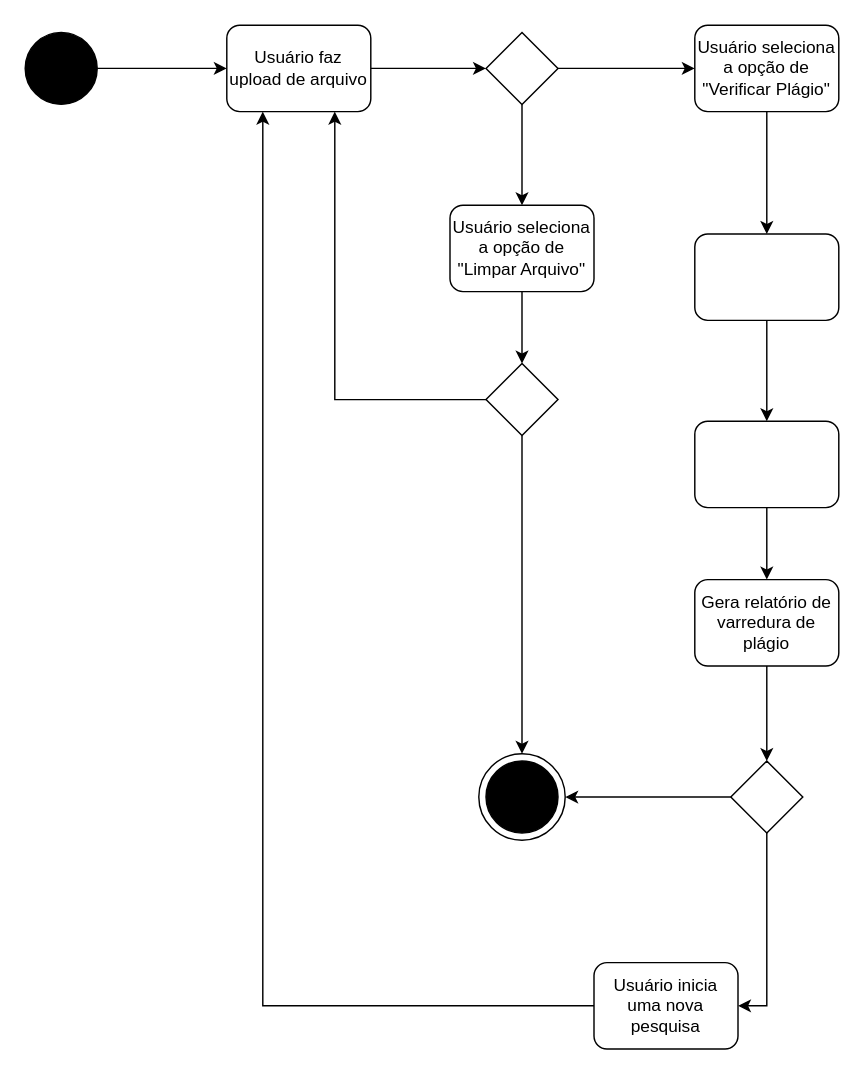
The diagram is 864 pixels wide and 1074 high, and some of its shapes have lost their labels. The centre of each missing label's shape, as x and y in pixels:
Calcula porcentagem de plágio total: point 766,464
Verifica frases plagiadas: point 766,276
